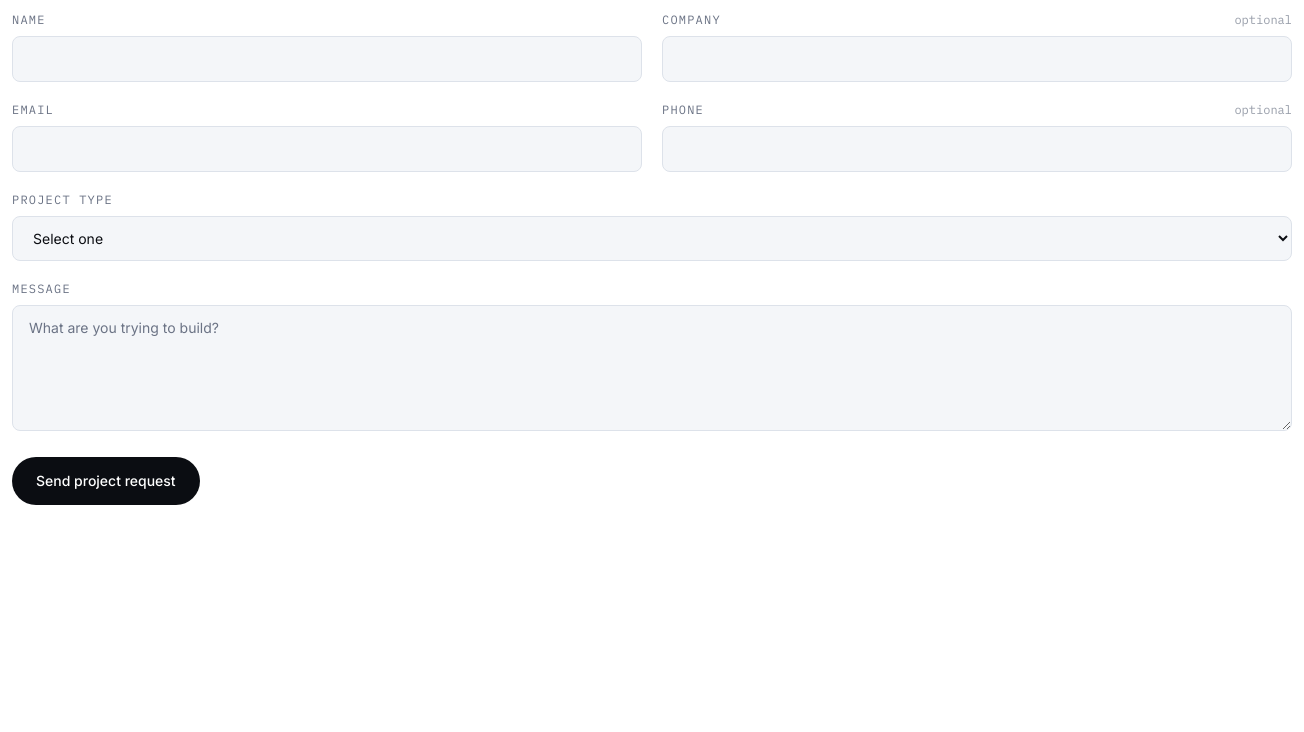
it: ContactForm › rejects a message that is too short
Type "too short" into the text box labelled "Message" at (652, 368), box top-left (12, 305), bottom-right (1292, 431)
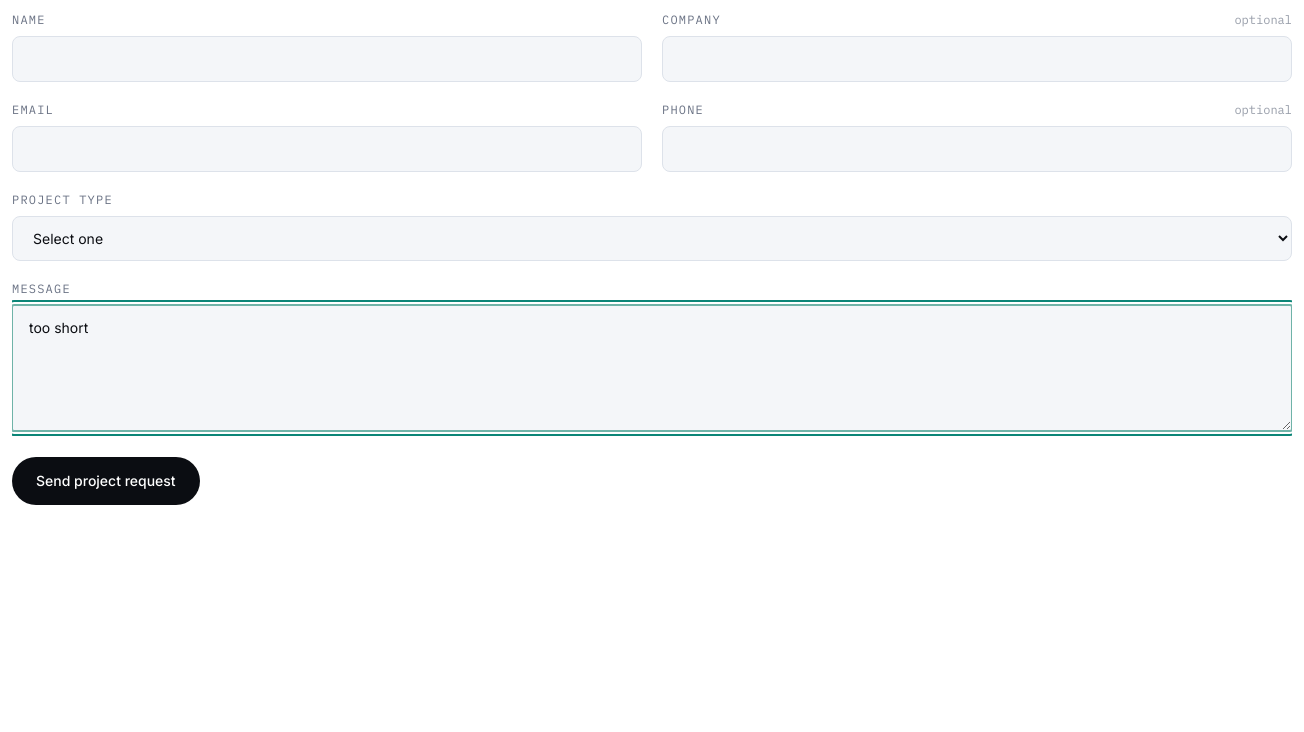
Click the button "Send project request" at (106, 481), box top-left (12, 457), bottom-right (200, 505)
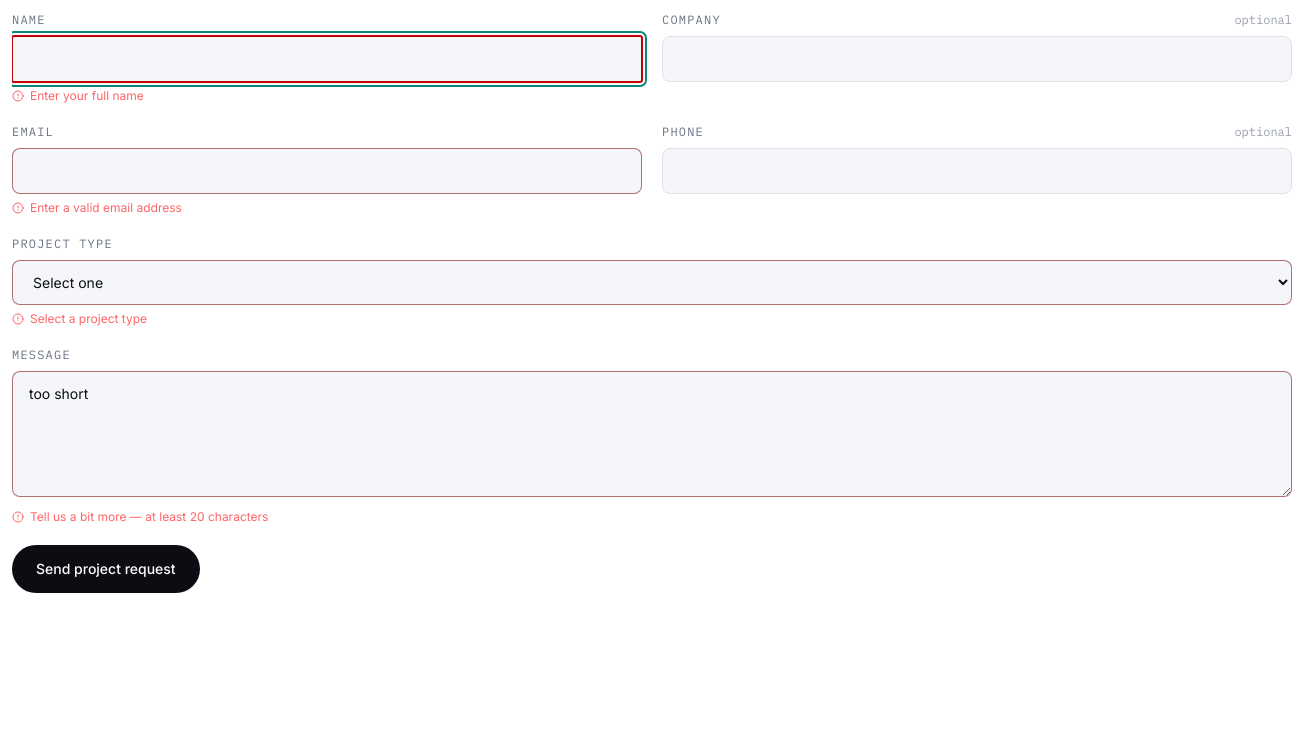
Now the text "Tell us a bit more — at least 20 characters" is shown, box top-left (12, 509), bottom-right (268, 524)
